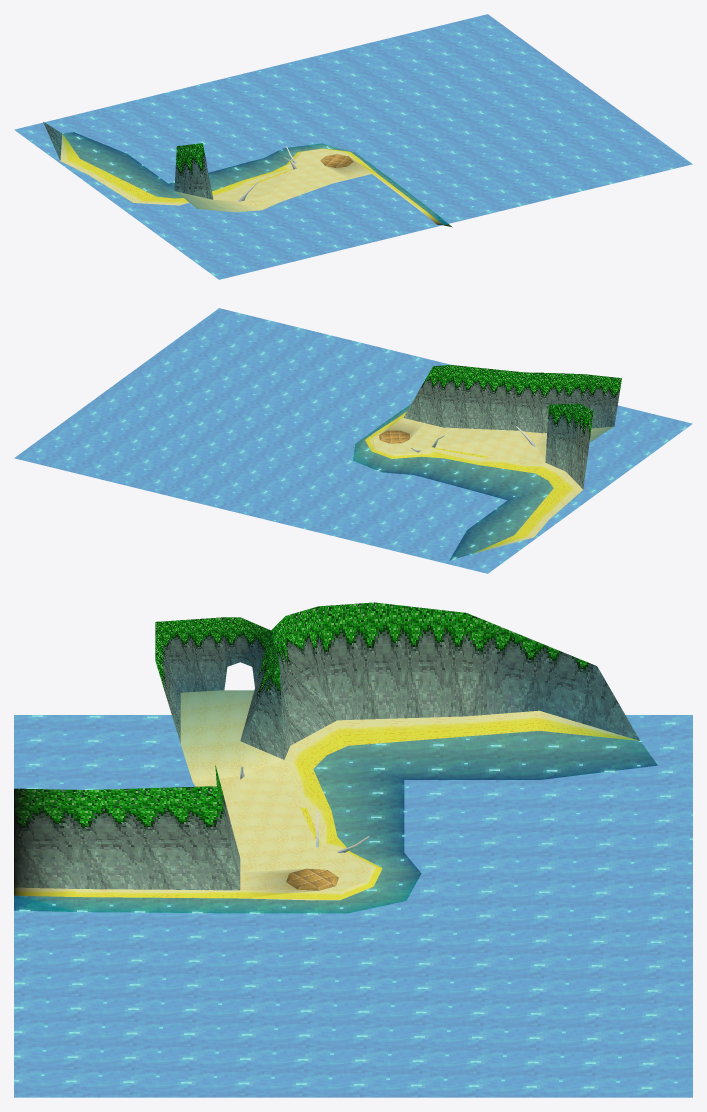
File: RocketSequence.glb
3 views of the same model, one above another, from view 1: azimuth 30°, elevation 25°; view 2: azimuth 150°, elevation 25°; view 3: azimuth 270°, elevation 25° (orthographic). The views are drawn at different scales.
Parts seen in each view (by area): view 1: RocketSequence_Alpha_3, RocketSequence_1, RocketSequence_4, RocketSequence_0, RocketSequence_2; view 2: RocketSequence_Alpha_3, RocketSequence_2, RocketSequence_1, RocketSequence_4, RocketSequence_0; view 3: RocketSequence_Alpha_3, RocketSequence_2, RocketSequence_1, RocketSequence_4, RocketSequence_0, RocketSequence_6.
Part boxes in pixels (<box>): RocketSequence_Alpha_3: <box>14,14,692,279</box>; RocketSequence_1: <box>63,132,452,227</box>; RocketSequence_4: <box>175,148,371,212</box>; RocketSequence_0: <box>60,134,442,225</box>; RocketSequence_2: <box>43,122,213,199</box>; RocketSequence_Alpha_3: <box>14,308,692,573</box>; RocketSequence_2: <box>403,365,621,489</box>; RocketSequence_1: <box>353,404,553,559</box>; RocketSequence_4: <box>373,418,613,462</box>; RocketSequence_0: <box>365,411,582,553</box>; RocketSequence_Alpha_3: <box>14,715,692,1097</box>; RocketSequence_2: <box>14,602,639,890</box>; RocketSequence_1: <box>14,731,657,912</box>; RocketSequence_4: <box>180,690,372,890</box>; RocketSequence_0: <box>14,710,639,900</box>; RocketSequence_6: <box>286,868,338,890</box>.
Size of the model in its own units: 1010 by 162 by 758.
Materials: 8 (8 with a texture image).
